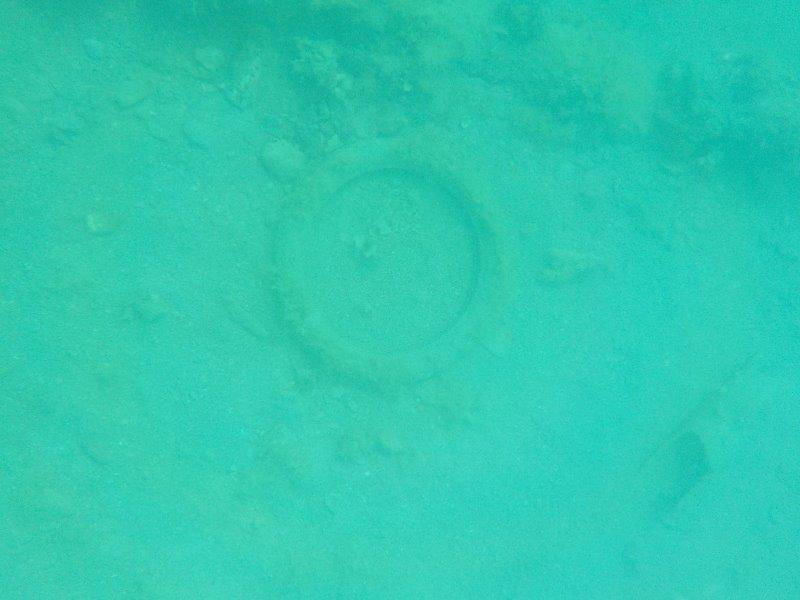tire: (261, 131, 511, 389)
